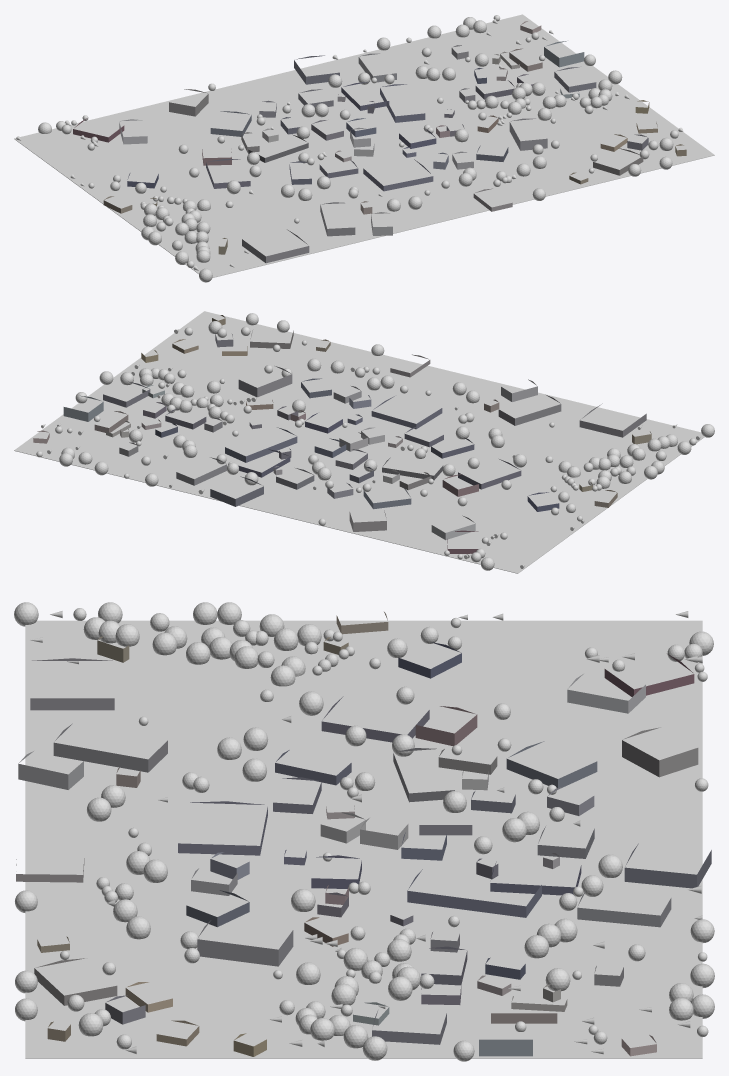
3 renders of one model, top to bottom at view 1: azimuth 30°, elevation 25°; view 2: azimuth 150°, elevation 25°; view 3: azimuth 270°, elevation 25°, orthographic. The views are drawn at different scales.
Parts seen in each view (by area): view 1: Ground_Base, BLD-002, BLD-007, BLD-010, BLD-019; view 2: Ground_Base, BLD-005, BLD-006, BLD-002, BLD-001, BLD-004, BLD-007, BLD-019; view 3: Ground_Base, BLD-005, BLD-006, BLD-001, BLD-010, BLD-004, BLD-002, BLD-008, BLD-022, BLD-007, BLD-012, BLD-011 (+12 smaller).
Boxes of the visible parts, x1=… form: Ground_Base: x1=14, y1=14, x2=714, y2=277; BLD-002: x1=242, y1=229, x2=309, y2=263; BLD-007: x1=363, y1=159, x2=433, y2=191; BLD-010: x1=169, y1=89, x2=208, y2=116; BLD-019: x1=544, y1=41, x2=584, y2=67; Ground_Base: x1=14, y1=311, x2=704, y2=573; BLD-005: x1=238, y1=366, x2=292, y2=397; BLD-006: x1=225, y1=427, x2=297, y2=462; BLD-002: x1=579, y1=403, x2=646, y2=437; BLD-001: x1=498, y1=395, x2=561, y2=425; BLD-004: x1=210, y1=476, x2=263, y2=506; BLD-007: x1=371, y1=396, x2=442, y2=429; BLD-019: x1=63, y1=395, x2=103, y2=421; Ground_Base: x1=25, y1=620, x2=702, y2=1058; BLD-005: x1=197, y1=920, x2=293, y2=966; BLD-006: x1=407, y1=869, x2=541, y2=917; BLD-001: x1=53, y1=723, x2=167, y2=772; BLD-010: x1=622, y1=727, x2=698, y2=777; BLD-004: x1=624, y1=843, x2=711, y2=888; BLD-002: x1=30, y1=658, x2=114, y2=710; BLD-008: x1=577, y1=890, x2=671, y2=927; BLD-022: x1=18, y1=751, x2=83, y2=789; BLD-007: x1=178, y1=801, x2=267, y2=855; BLD-012: x1=567, y1=674, x2=645, y2=713; BLD-011: x1=506, y1=741, x2=597, y2=788.
Bounding box in the file's own units: 513 × 15.85 × 340.
